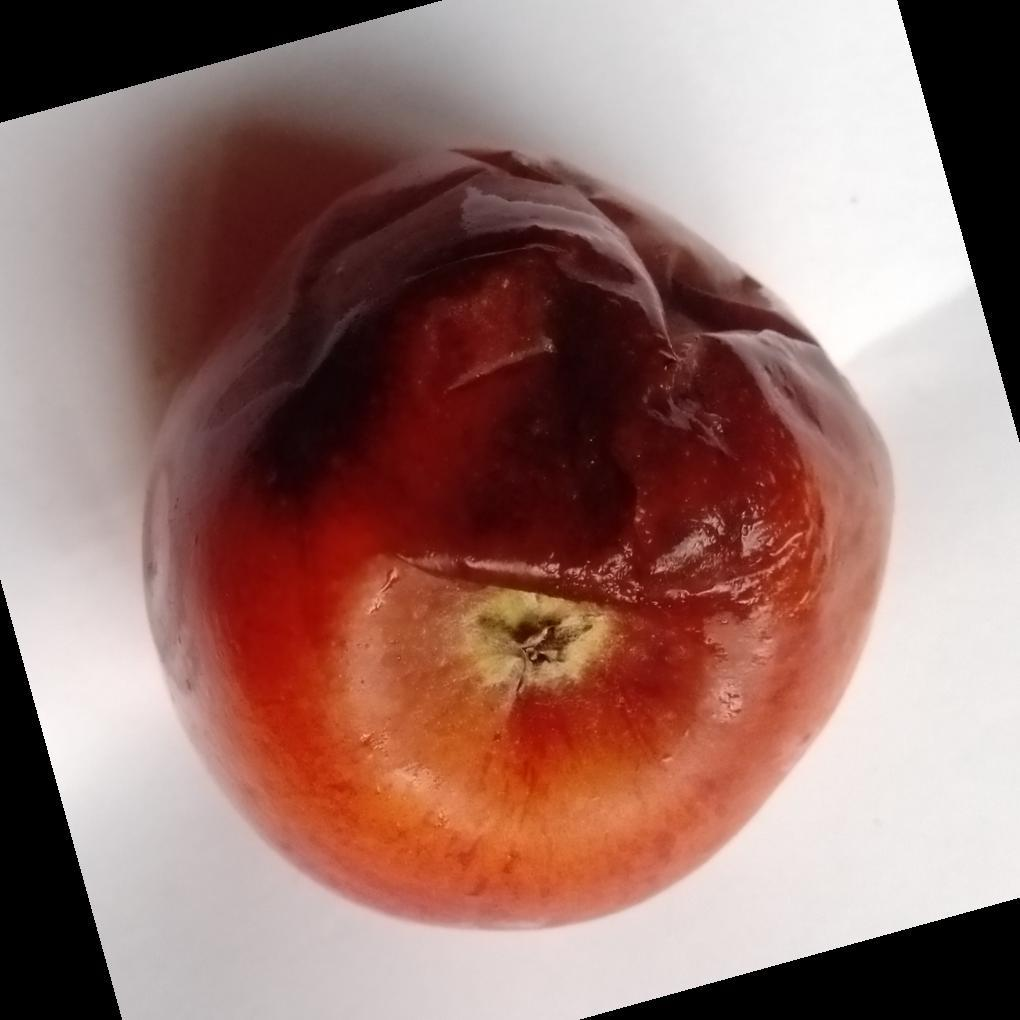FreshOrange: (138, 148, 896, 936)
